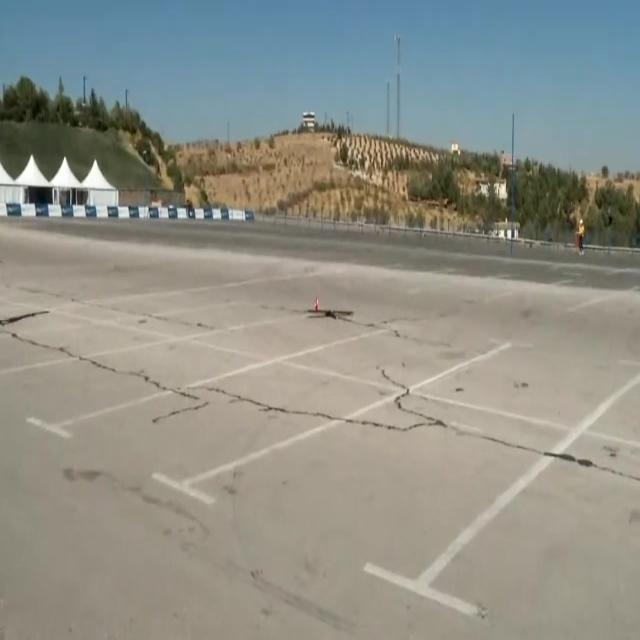iha: (300, 296, 348, 321)
